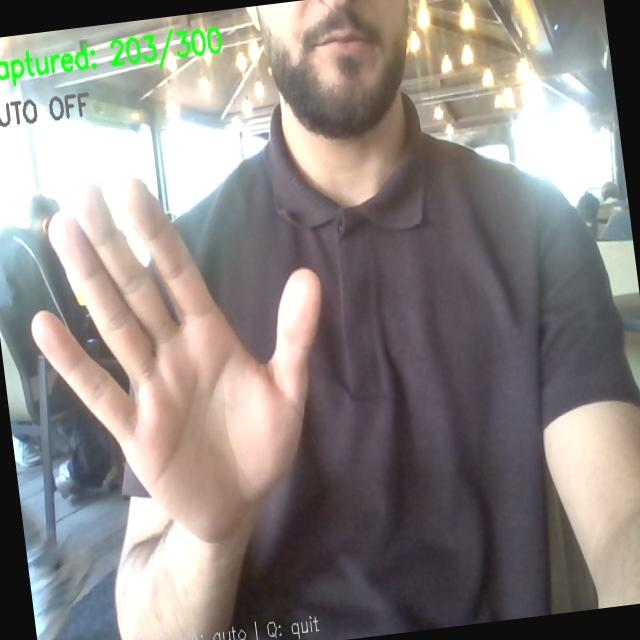Hand: (32, 181, 320, 542)
